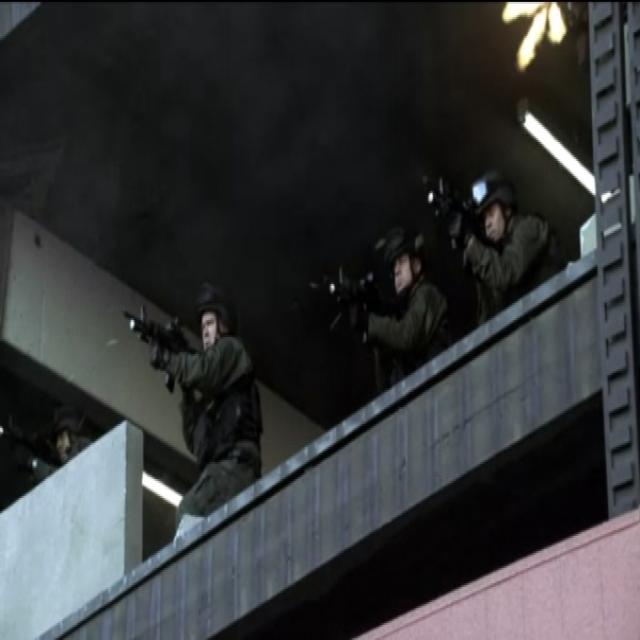rifle: (125, 300, 195, 395)
